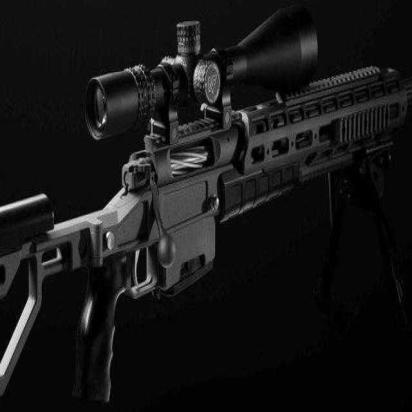Gun: (0, 3, 412, 412)
